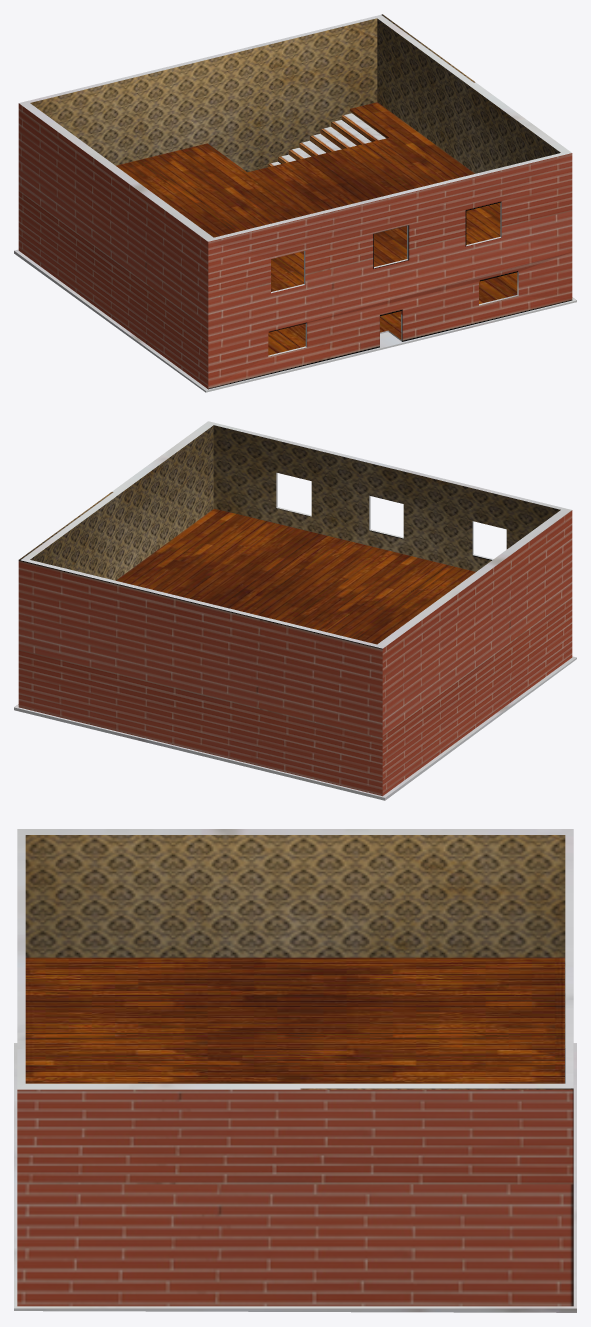
Rendered from House1.FBX.
3 views of the same model, one above another, from view 1: azimuth 30°, elevation 25°; view 2: azimuth 150°, elevation 25°; view 3: azimuth 270°, elevation 25° (orthographic). The views are drawn at different scales.
Parts seen in each view (by area): view 1: Mesh_House_texture, Mesh_Floor, Mesh_Stair; view 2: Mesh_House_texture, Mesh_Floor; view 3: Mesh_House_texture, Mesh_Floor.
Boxes of the visible parts, x1=… form: Mesh_House_texture: x1=14, y1=14, x2=576, y2=392; Mesh_Floor: x1=116, y1=102, x2=500, y2=291; Mesh_Stair: x1=267, y1=113, x2=385, y2=167; Mesh_House_texture: x1=14, y1=421, x2=576, y2=800; Mesh_Floor: x1=116, y1=508, x2=475, y2=644; Mesh_House_texture: x1=14, y1=829, x2=576, y2=1312; Mesh_Floor: x1=25, y1=957, x2=564, y2=1083.
Size of the model in its own units: 89.64 by 34.73 by 80.27.
